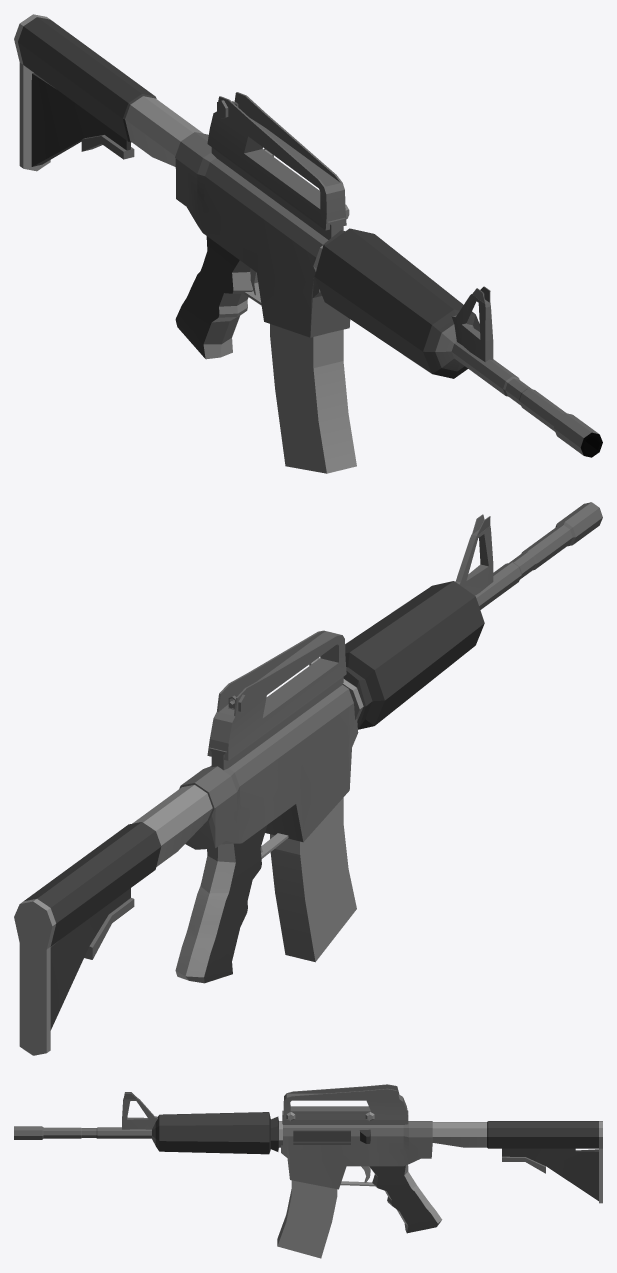
The picture shows the model from 3 angles, top to bottom: view 1: azimuth 30°, elevation 25°; view 2: azimuth 150°, elevation 25°; view 3: azimuth 270°, elevation 25°; orthographic projection. The views are drawn at different scales.
Visible parts, largest first — view 1: machine_gun_4; view 2: machine_gun_4; view 3: machine_gun_4.
Part boxes in pixels (x1=…): machine_gun_4: x1=14, y1=14, x2=602, y2=473; machine_gun_4: x1=14, y1=502, x2=602, y2=1055; machine_gun_4: x1=14, y1=1084, x2=602, y2=1258.
Size of the model in its own units: 23.12 by 99.82 by 317.
1 material, 1 textured.
